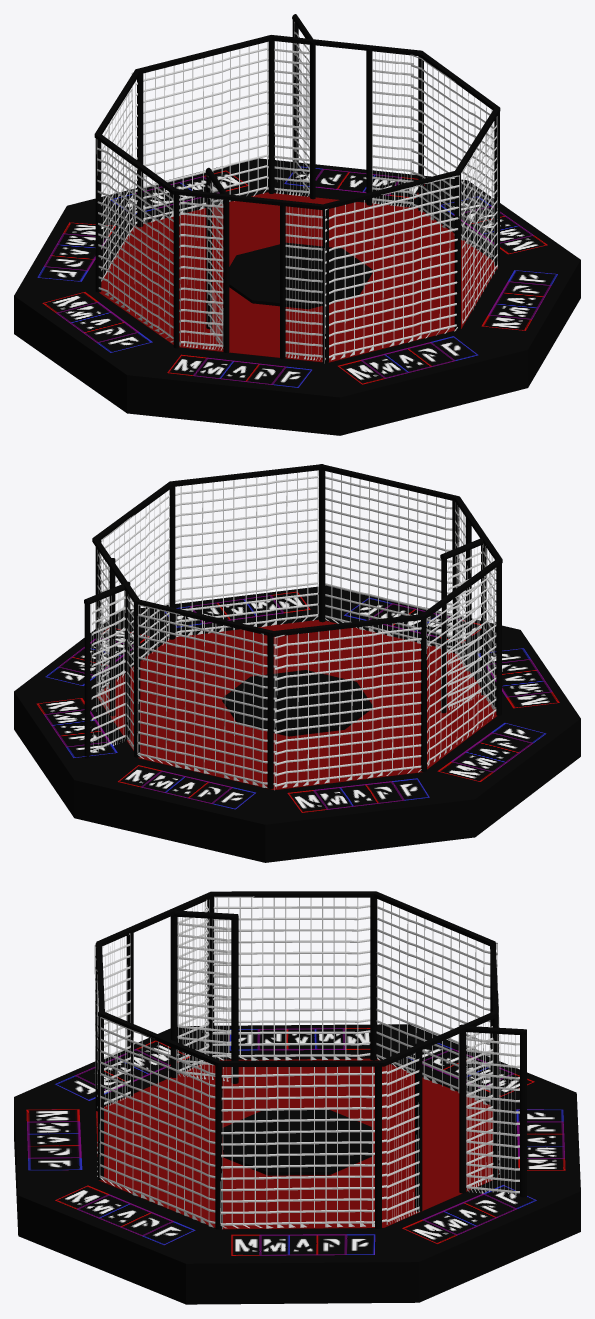
Rendered from cage.glb.
3 views of the same model, one above another, from view 1: azimuth 30°, elevation 25°; view 2: azimuth 150°, elevation 25°; view 3: azimuth 270°, elevation 25° (orthographic). The views are drawn at different scales.
Parts seen in each view (by area): view 1: Circle.001, Circle.003, Plane.007_Plane.004, Plane.007_Plane.005, Circle.002, Circle.004, Plane.007_Plane.003, Plane.007_Plane.002, Plane.007_Plane.011, Plane.007_Plane.008, Plane.007, Plane.001 (+26 smaller); view 2: Circle.001, Circle.003, Plane.007_Plane.001, Plane.007_Plane.011, Plane.007_Plane.005, Plane.007_Plane.004, Circle.002, Circle.004, Plane.007_Plane.003, Plane.007_Plane.002, Plane.001, Plane.002 (+26 smaller); view 3: Circle.001, Circle.003, Plane.007_Plane.002, Plane.007_Plane.003, Plane.007_Plane.011, Circle.004, Circle.002, Plane.007_Plane.001, Plane.007_Plane.006, Plane.007_Plane.009, Plane.007, Plane.005 (+22 smaller).
Boxes of the visible parts, x1,y1,x2,y2 form: Circle.001: [14, 158, 580, 435]; Circle.003: [99, 192, 497, 362]; Plane.007_Plane.004: [324, 175, 459, 363]; Plane.007_Plane.005: [135, 42, 268, 225]; Circle.002: [94, 35, 500, 210]; Circle.004: [223, 242, 372, 309]; Plane.007_Plane.003: [96, 139, 180, 345]; Plane.007_Plane.002: [410, 54, 494, 261]; Plane.007_Plane.011: [461, 116, 497, 324]; Plane.007_Plane.008: [180, 195, 223, 350]; Plane.007: [338, 336, 478, 384]; Plane.001: [42, 292, 152, 352]; Circle.001: [14, 585, 580, 862]; Circle.003: [97, 619, 497, 789]; Plane.007_Plane.001: [274, 621, 421, 790]; Plane.007_Plane.011: [168, 470, 318, 638]; Plane.007_Plane.005: [137, 604, 277, 788]; Plane.007_Plane.004: [325, 472, 459, 651]; Circle.002: [92, 464, 502, 636]; Circle.004: [222, 670, 372, 736]; Plane.007_Plane.003: [426, 569, 496, 766]; Plane.007_Plane.002: [99, 493, 169, 693]; Plane.001: [437, 723, 546, 781]; Plane.002: [287, 778, 429, 812]; Circle.001: [14, 1024, 580, 1304]; Circle.003: [96, 1058, 498, 1229]; Plane.007_Plane.002: [220, 1065, 387, 1228]; Plane.007_Plane.003: [205, 896, 370, 1060]; Plane.007_Plane.011: [99, 1017, 223, 1229]; Circle.004: [222, 1110, 371, 1175]; Circle.002: [96, 891, 498, 1066]; Plane.007_Plane.001: [376, 901, 497, 1105]; Plane.007_Plane.006: [467, 1032, 519, 1194]; Plane.007_Plane.009: [178, 917, 231, 1081]; Plane.007: [26, 1109, 82, 1170]; Plane.005: [55, 1185, 195, 1245].
Bounding box in the file's own units: 2.97 × 1.21 × 2.97.
22 materials, 8 textured.
